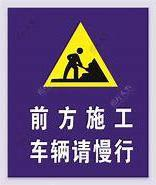sign: (8, 9, 147, 176)
